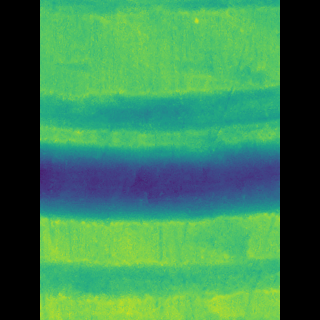Loch: (70, 80, 250, 320)
